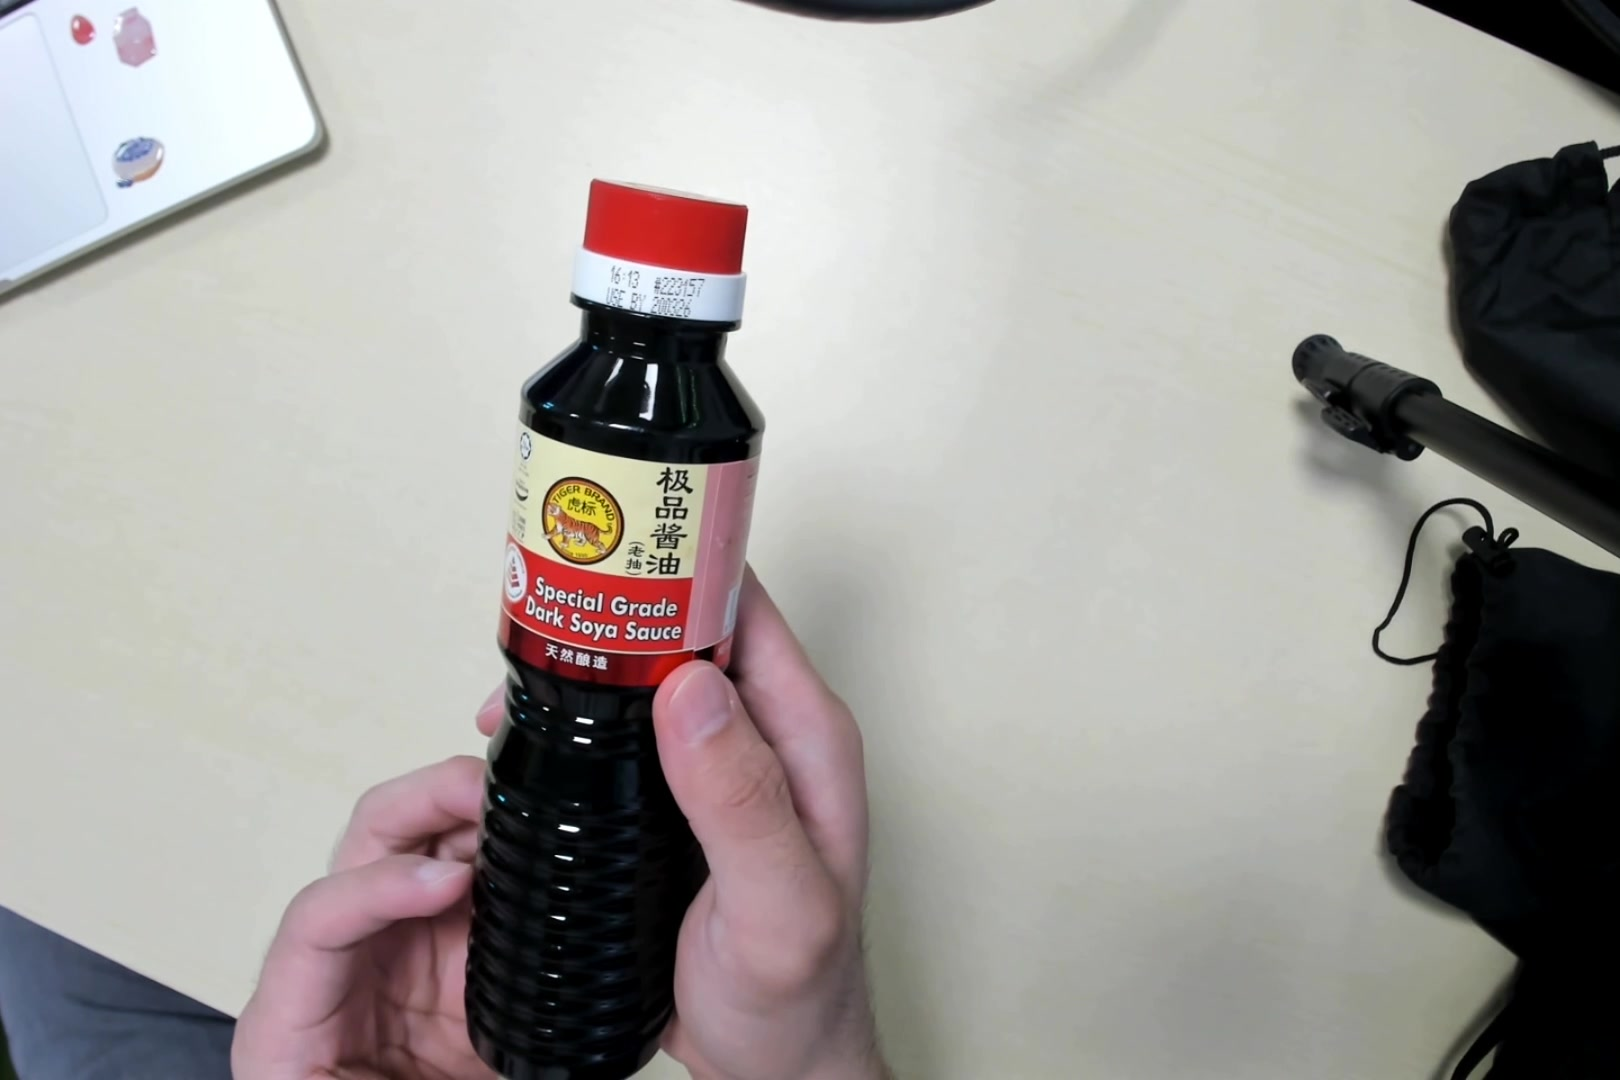DarkSoySauce_300-399g_Halal_NonHealthy: (486, 176, 756, 1080)
